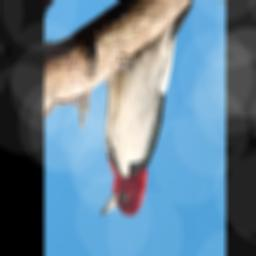Woodpecker: (82, 0, 215, 235)
